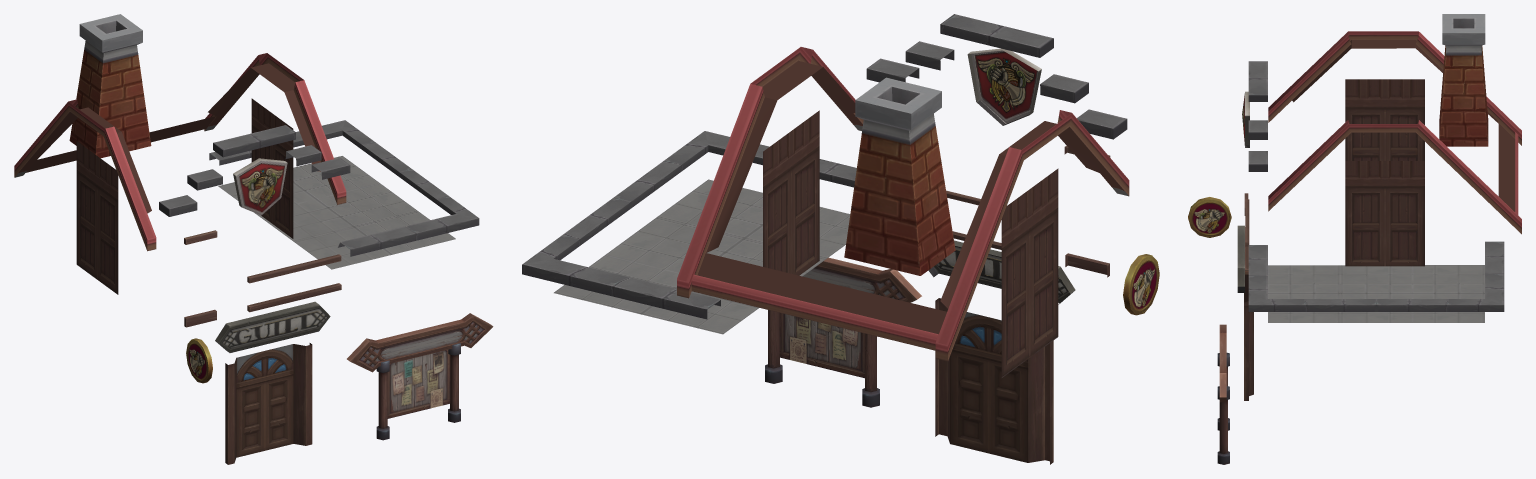
File: scene_luoliante_yjsxh_02.FBX
3 views of the same model, side by side, from view 1: azimuth 30°, elevation 25°; view 2: azimuth 150°, elevation 25°; view 3: azimuth 270°, elevation 25° (orthographic). The views are drawn at different scales.
Visible parts, largest first — view 1: scene_luoliante_yjsxh_02; view 2: scene_luoliante_yjsxh_02; view 3: scene_luoliante_yjsxh_02.
Part boxes in pixels (x1,y1,x2,y2): scene_luoliante_yjsxh_02: [14, 14, 493, 464]; scene_luoliante_yjsxh_02: [522, 14, 1159, 464]; scene_luoliante_yjsxh_02: [1188, 14, 1521, 464].
Bounding box in the file's own units: 496 × 521 × 467.
